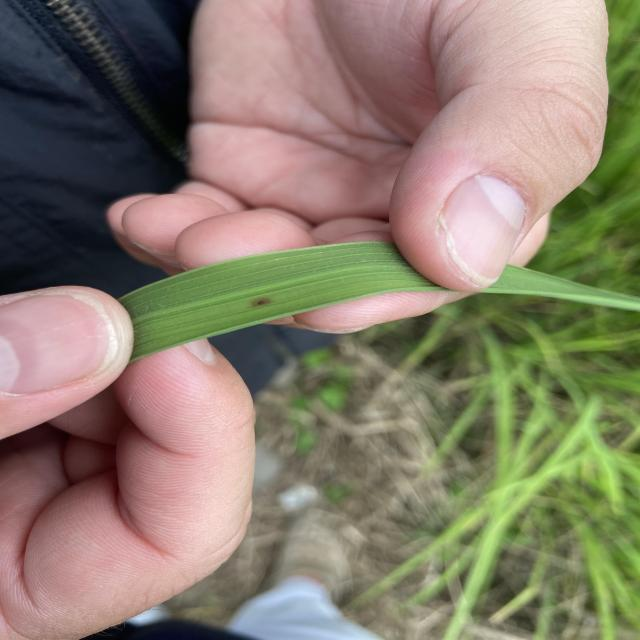Dao on: (251, 297, 271, 307)
